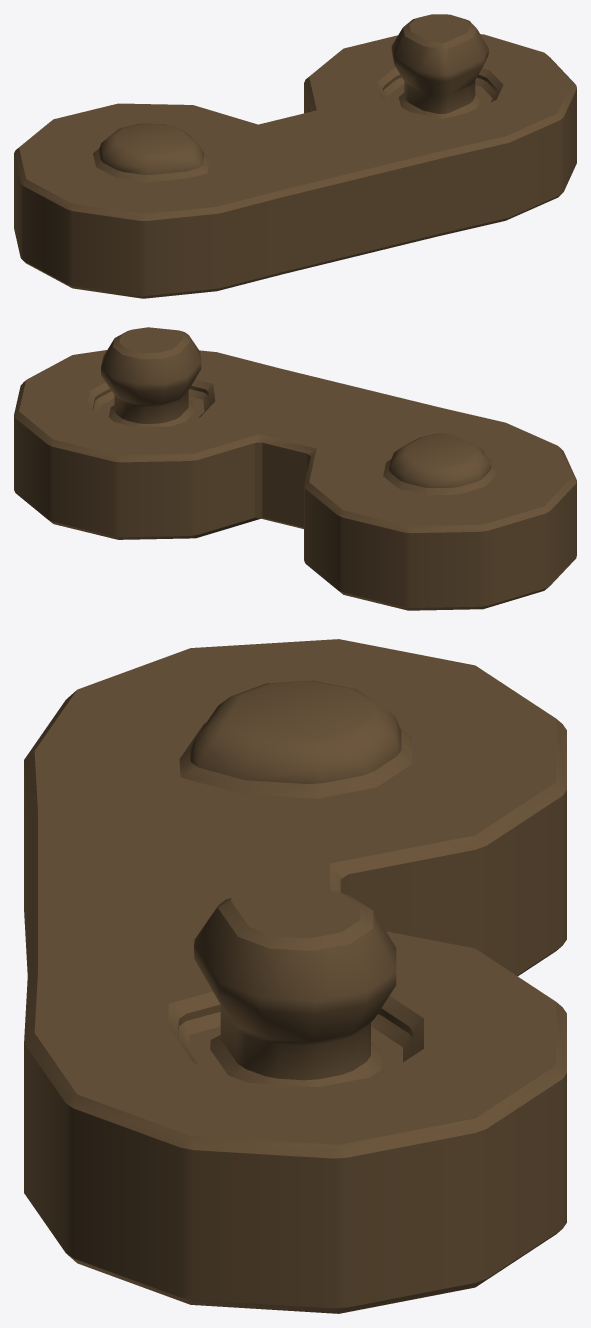
The model's file is Controller.fbx.
3 views of the same model, one above another, from view 1: azimuth 30°, elevation 25°; view 2: azimuth 150°, elevation 25°; view 3: azimuth 270°, elevation 25° (orthographic). The views are drawn at different scales.
Visible parts, largest first — view 1: Controller; view 2: Controller; view 3: Controller.
Part boxes in pixels (x1,y1,x2,y2): Controller: (14,14,576,298); Controller: (14,327,576,610); Controller: (24,639,566,1313).
Size of the model in its own units: 0.2991 by 0.0787 by 0.1335.
